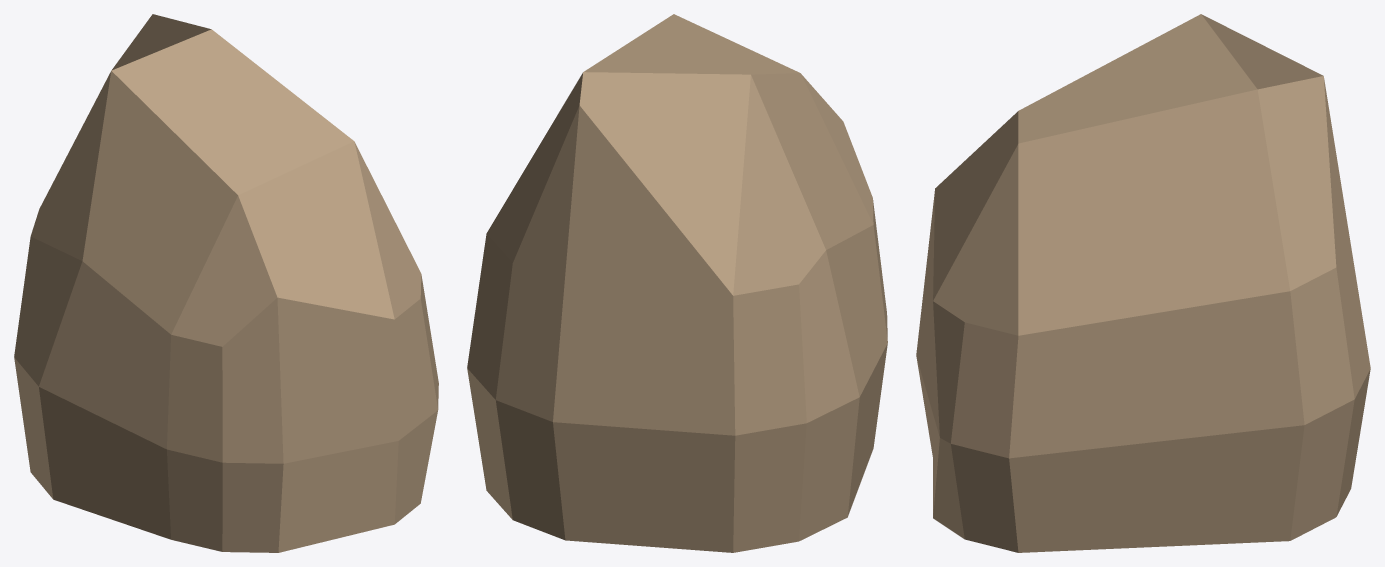
Rendered from rock_5.FBX.
The picture shows the model from 3 angles, left to right: view 1: azimuth 30°, elevation 25°; view 2: azimuth 150°, elevation 25°; view 3: azimuth 270°, elevation 25°; orthographic projection. The views are drawn at different scales.
Visible parts, largest first — view 1: rock_5; view 2: rock_5; view 3: rock_5.
Part boxes in pixels (x1,y1,x2,y2): rock_5: (14, 14, 438, 552); rock_5: (467, 14, 887, 552); rock_5: (916, 14, 1370, 552).
Size of the model in its own units: 1689 by 1997 by 1942.
